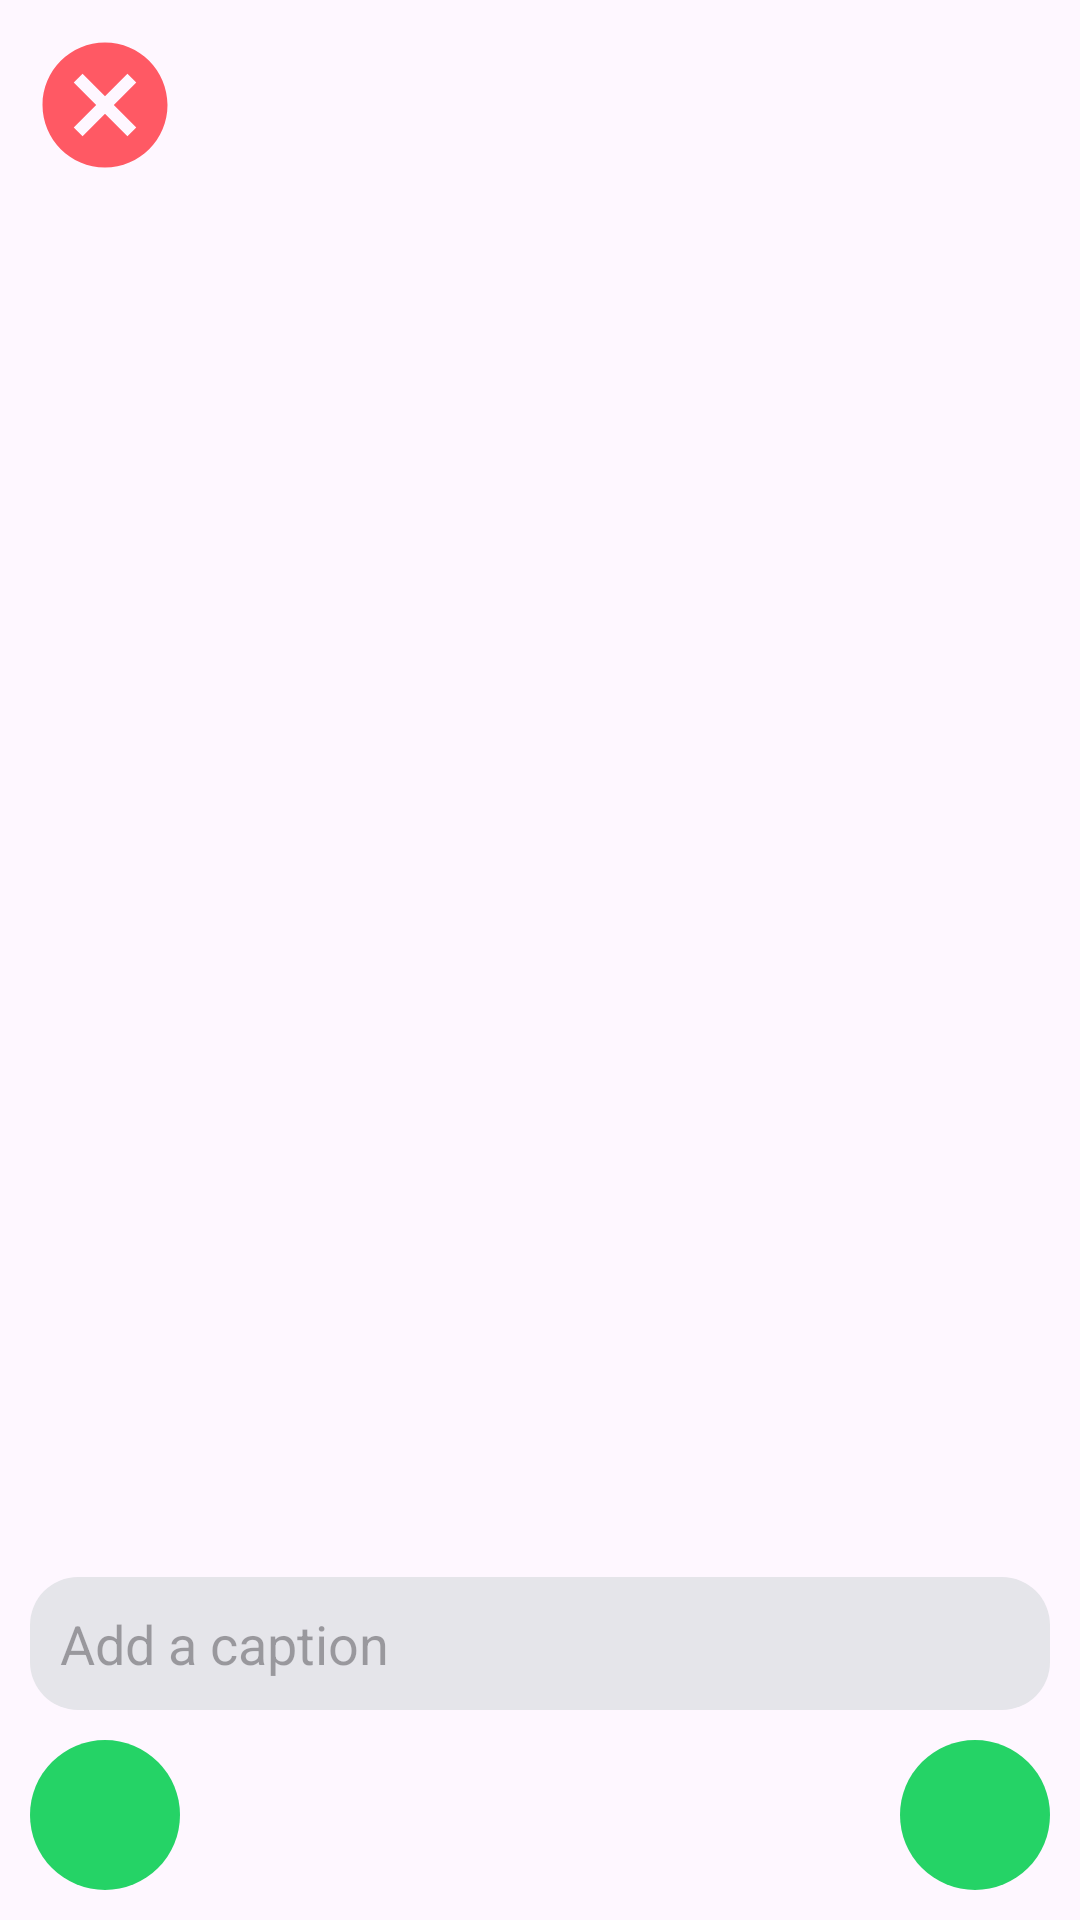

Icons on this 1080px x 1920px Android screen, each with its box as (left=x1, top=y1, right=x2, bottom=y2):
cancel: (left=42, top=42, right=168, bottom=168)
